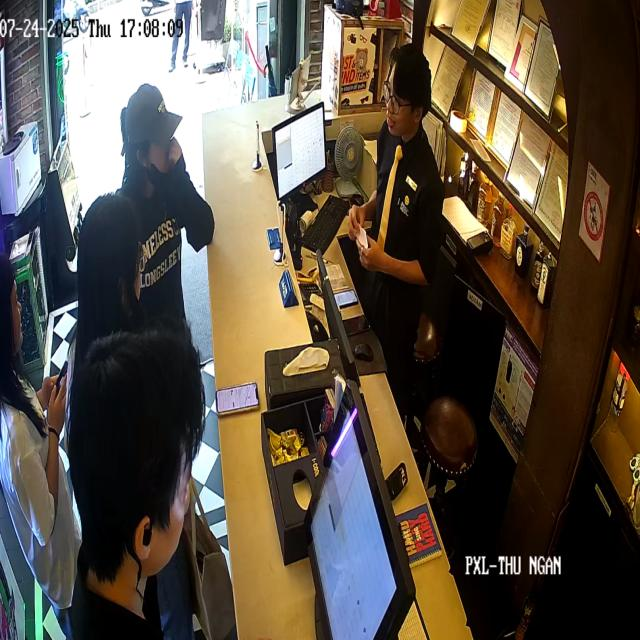khach: (70, 335, 210, 640), (107, 82, 205, 320), (5, 245, 70, 558), (82, 193, 154, 344)
nhan vien: (361, 47, 445, 384)
